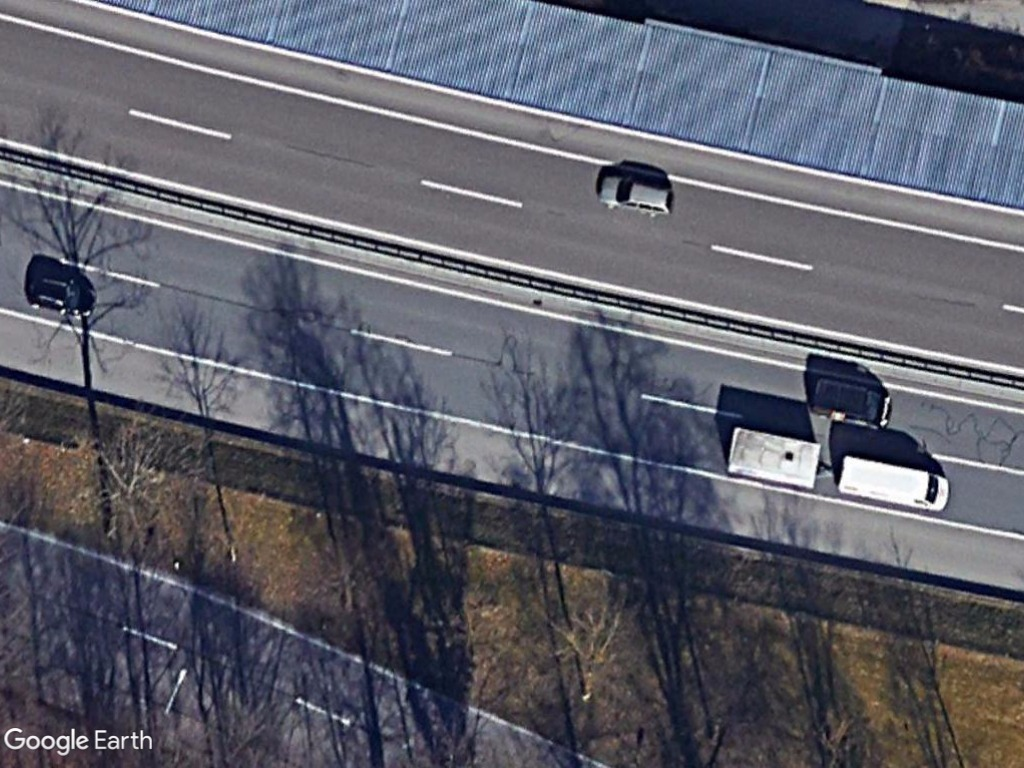car: (595, 173, 677, 218)
van: (834, 444, 956, 516), (807, 373, 894, 434)
